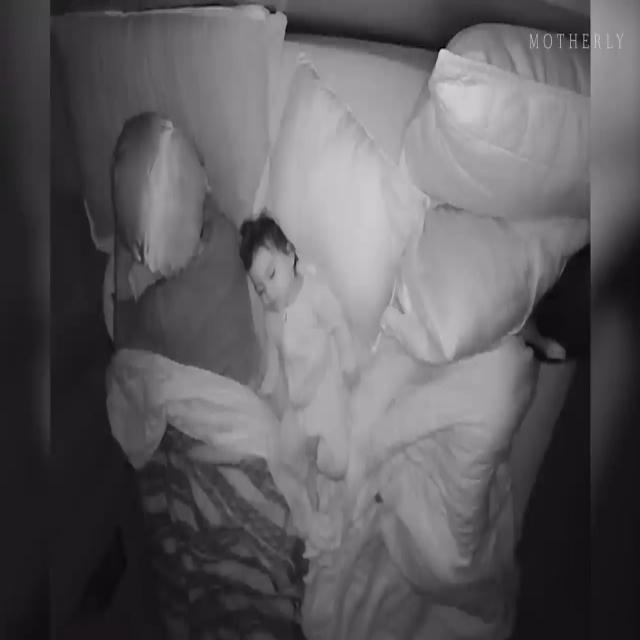baby: (241, 215, 362, 522)
